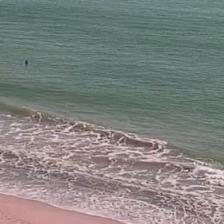surfer: (24, 60, 28, 64)
